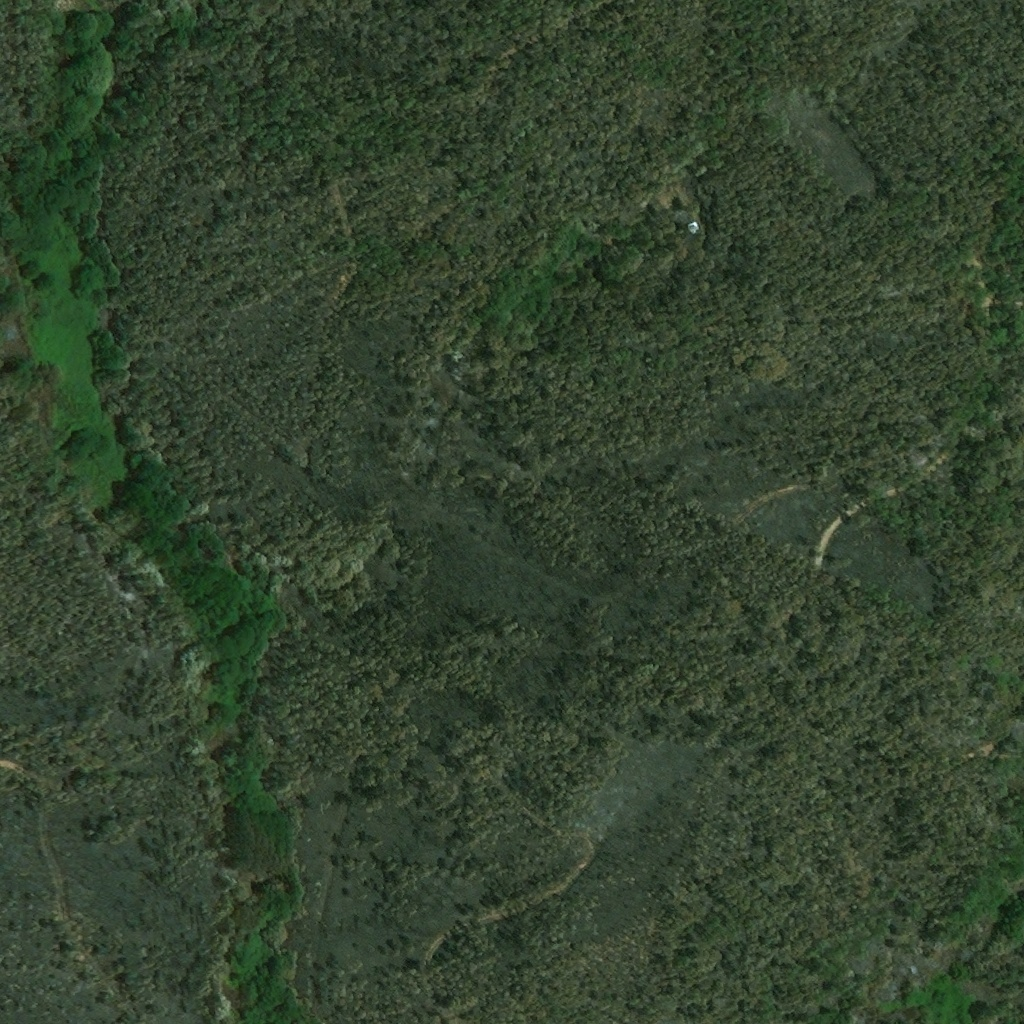0 no-damage: (686, 222, 700, 235)
